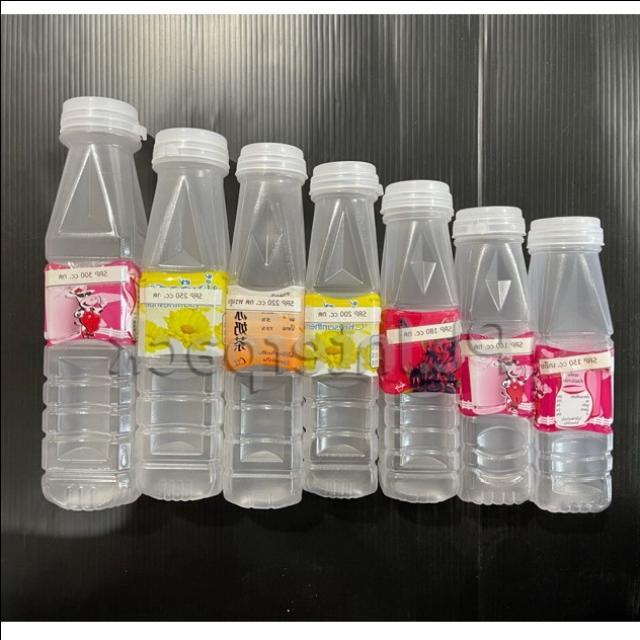plastik: (41, 95, 145, 509), (136, 127, 229, 500), (222, 142, 306, 507), (302, 160, 382, 497), (378, 179, 459, 501), (526, 215, 612, 512), (451, 205, 532, 503)
